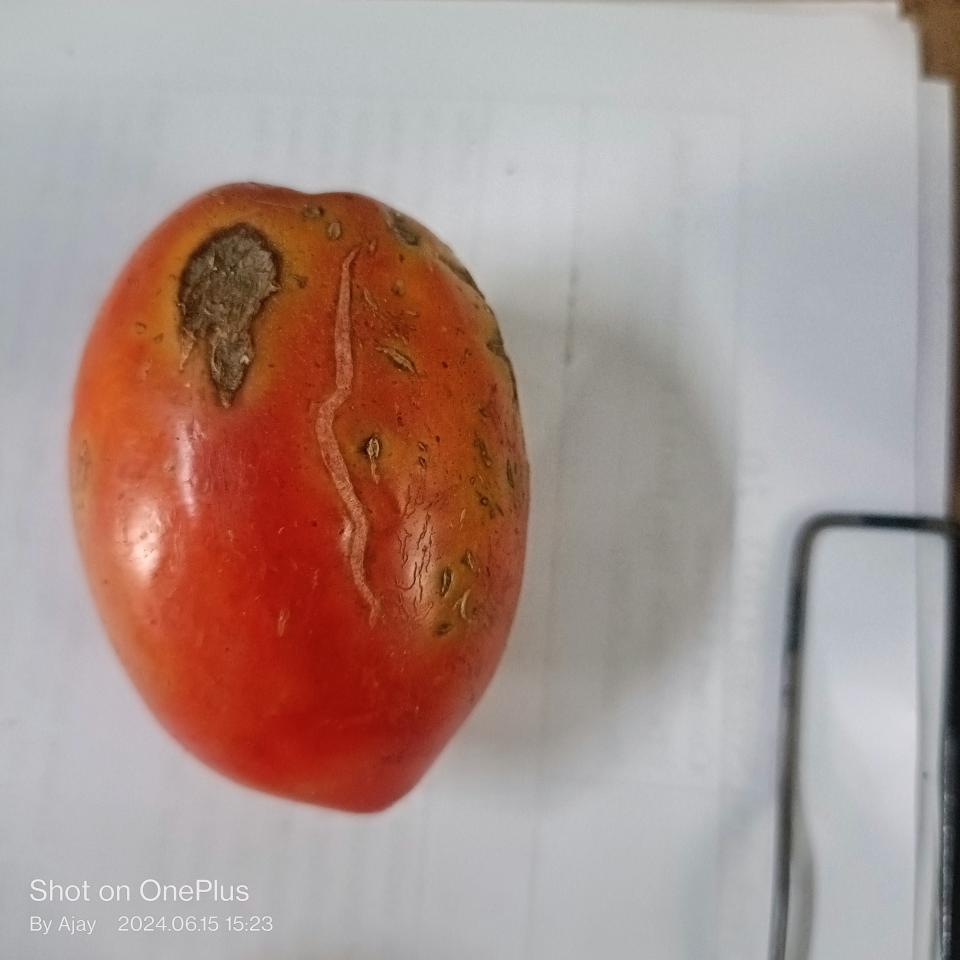Cracking: (309, 234, 386, 629), (171, 204, 303, 416)
